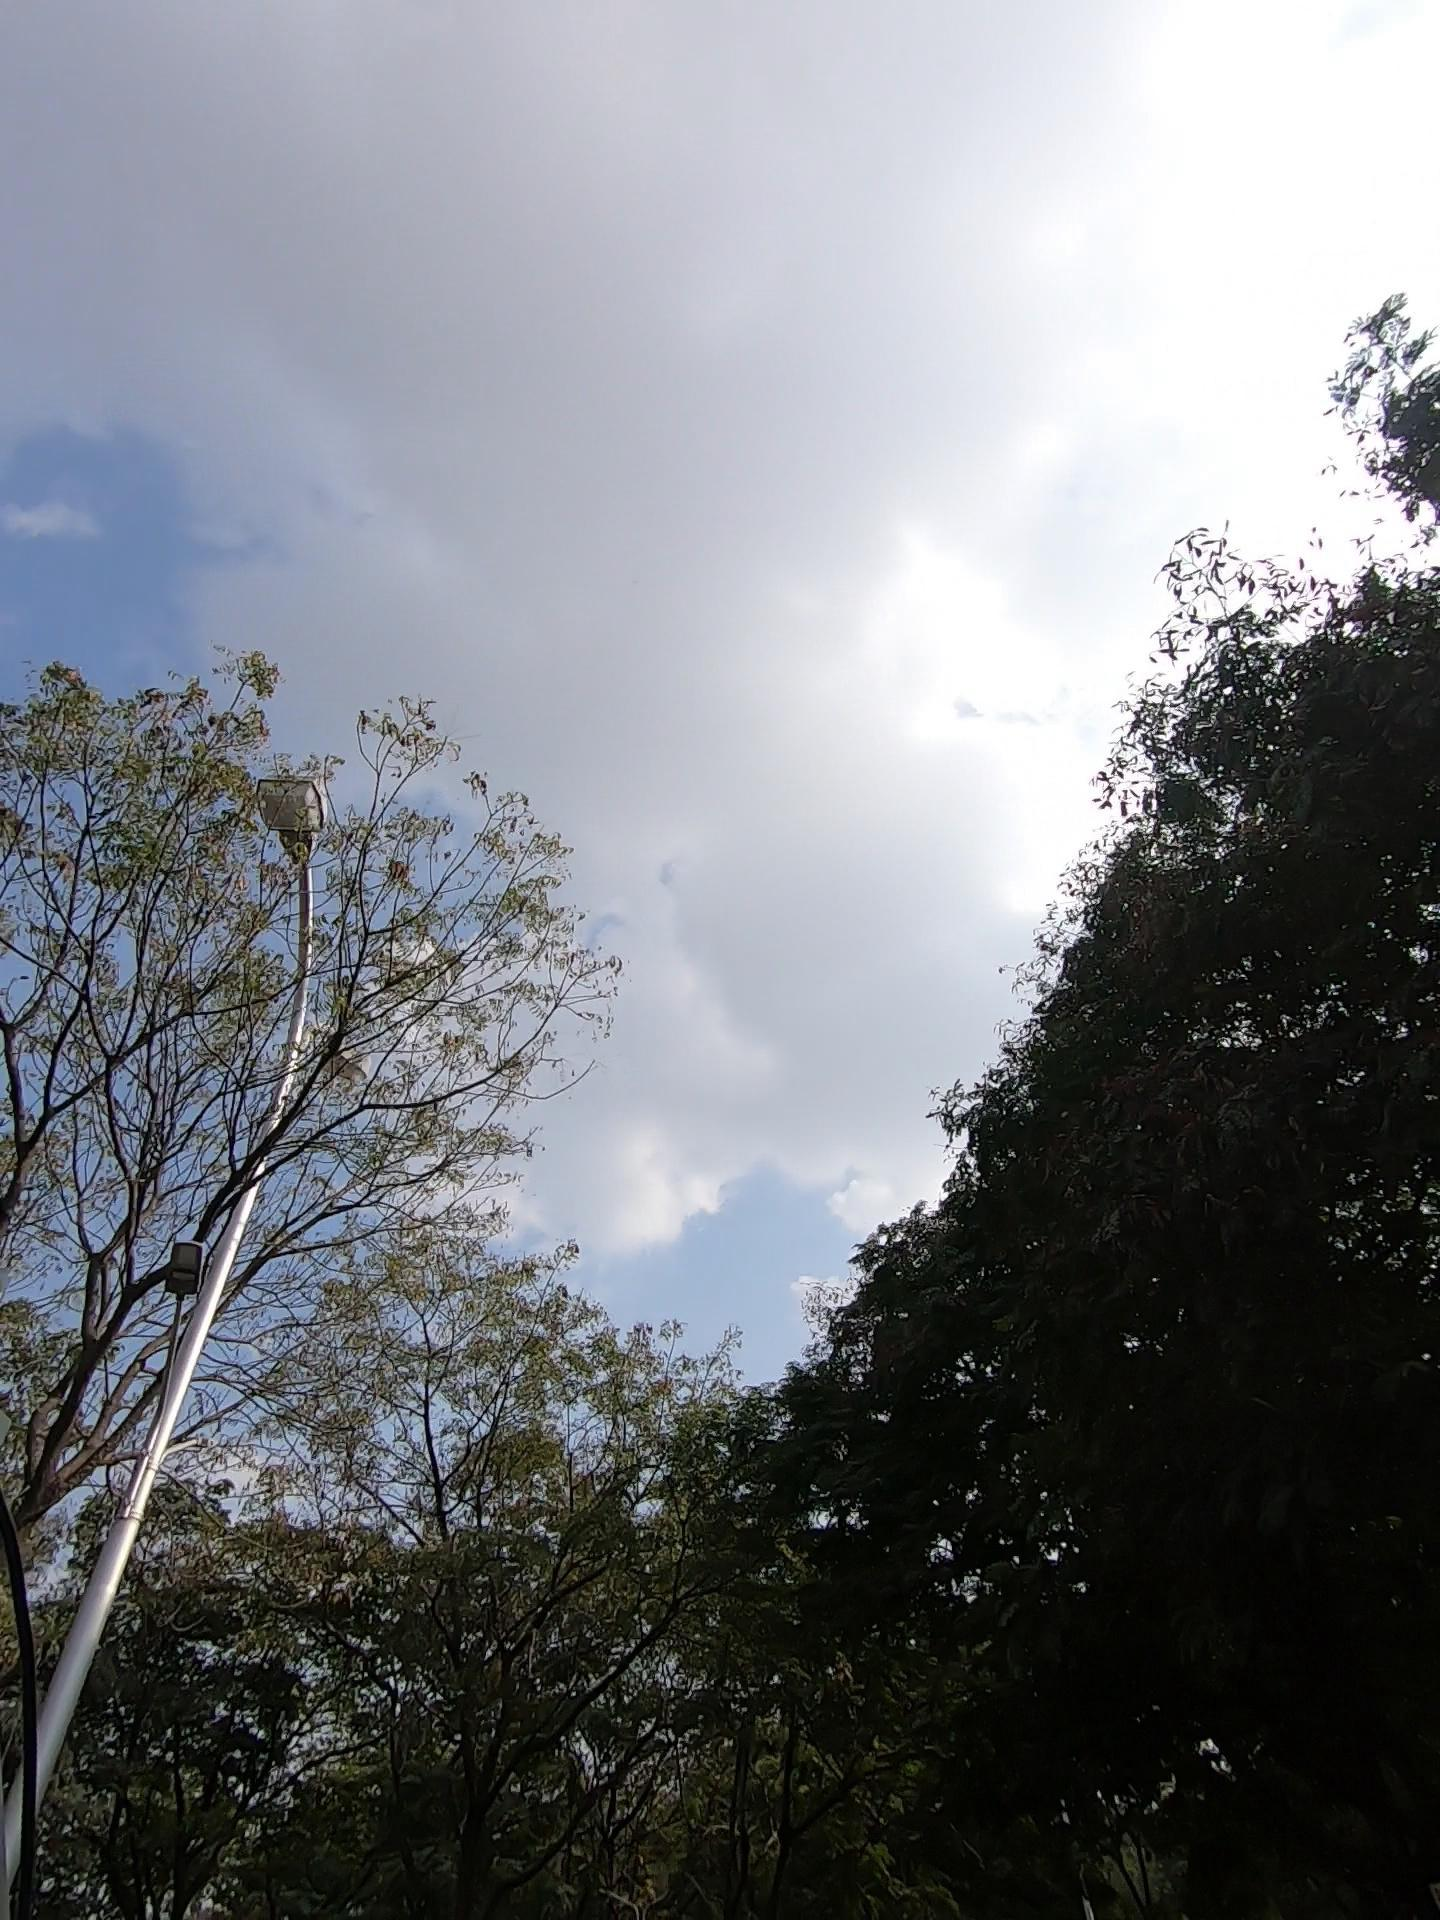off: (191, 695, 436, 1092)
